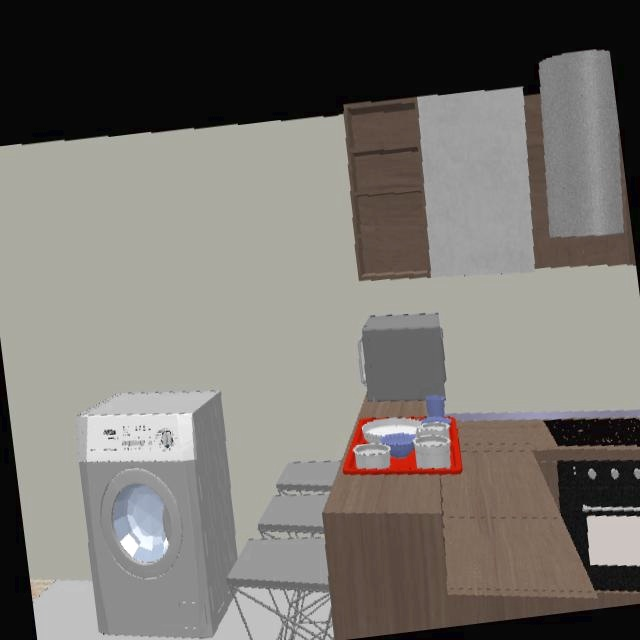cabinet: (344, 51, 634, 281)
chair: (227, 460, 339, 640)
microwave: (357, 313, 445, 399)
oven: (558, 460, 640, 589)
stove: (544, 417, 640, 447)
